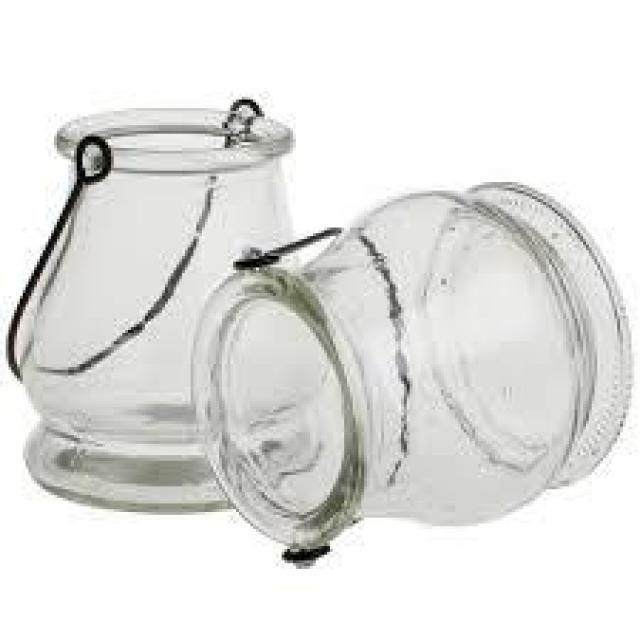glass: (185, 173, 640, 574)
